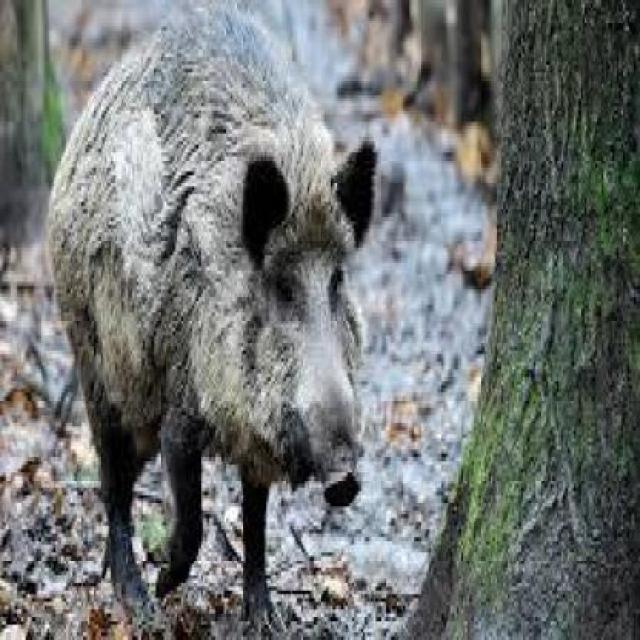wildboar: (45, 0, 388, 640)
